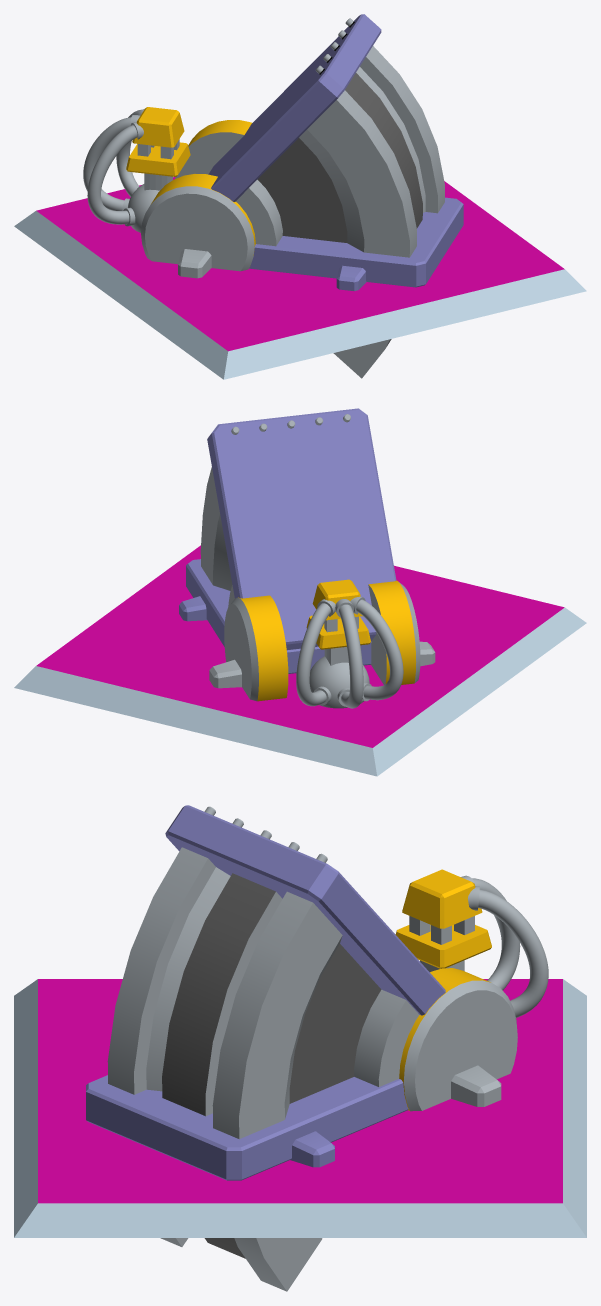
The model's file is 69_Haarvester_FOMO5.fbx.
The picture shows the model from 3 angles, top to bottom: view 1: azimuth 30°, elevation 25°; view 2: azimuth 150°, elevation 25°; view 3: azimuth 270°, elevation 25°; orthographic projection. The views are drawn at different scales.
Visible parts, largest first — view 1: foundation5, polySurface52, pCube118, pCylinder90, pCube119, pCube122, pCylinder89, pCylinder104, pCylinder103, pSphere52, pCube147, pCylinder139 (+1 smaller); view 2: foundation5, pCube118, pCylinder89, pCylinder90, pCube119, polySurface52, pCylinder104, pCylinder139, pCube122, pCylinder103, pSphere52, pCube154 (+1 smaller); view 3: foundation5, polySurface52, pCube119, pCube118, pCylinder89, pCube122, pCylinder139, pCube154, pCylinder103, pCube155, polySurface63.
Boxes of the visible parts, x1,y1,x2,y2 form: foundation5: (14,177,586,379); polySurface52: (236,46,444,378); pCube118: (208,14,381,201); pCylinder90: (141,174,255,271); pCube119: (249,197,463,287); pCube122: (126,107,190,176); pCylinder89: (175,120,251,178); pCylinder104: (87,121,143,226); pCylinder103: (83,115,139,210); pSphere52: (128,173,172,232); pCube147: (178,249,211,278); pCylinder139: (116,108,144,196); foundation5: (14,545,586,776); pCube118: (207,408,396,650); pCylinder89: (224,595,288,701); pCylinder90: (368,580,420,684); pCube119: (186,559,371,673); polySurface52: (200,467,234,606); pCylinder104: (350,596,403,701); pCylinder139: (296,599,335,706); pCube122: (306,579,370,649); pCylinder103: (335,599,363,708); pSphere52: (309,647,369,708); pCube154: (209,659,241,688); foundation5: (14,979,586,1237); polySurface52: (107,847,419,1291); pCube119: (86,1075,408,1180); pCube118: (165,805,445,1015); pCylinder89: (399,968,517,1111); pCube122: (395,869,491,968); pCylinder139: (468,886,548,1017); pCube154: (451,1065,501,1106); pCylinder103: (461,875,520,990); pCube155: (290,1131,334,1167); polySurface63: (409,916,474,944).
Bounding box in the file's own units: 2 × 1.6 × 2.
